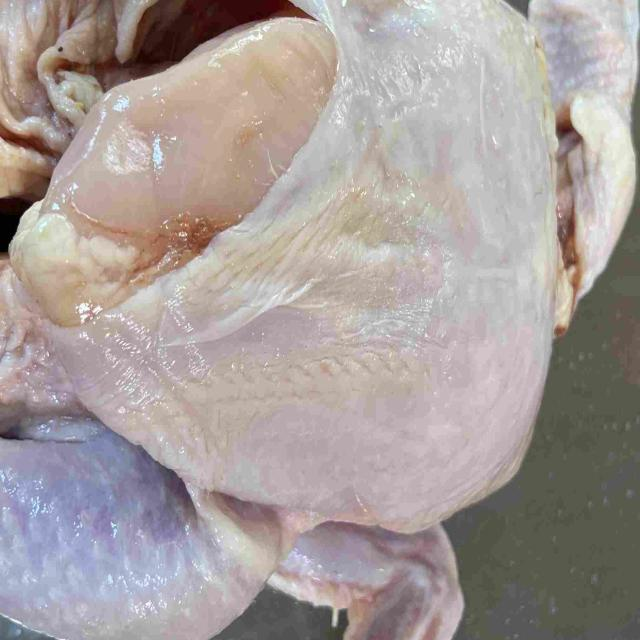breast: (12, 0, 555, 527)
leg: (0, 425, 317, 640)
neck: (531, 0, 637, 326)
wing: (269, 508, 463, 640)
